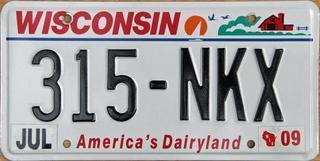placa de veiculo: (5, 5, 314, 161)
